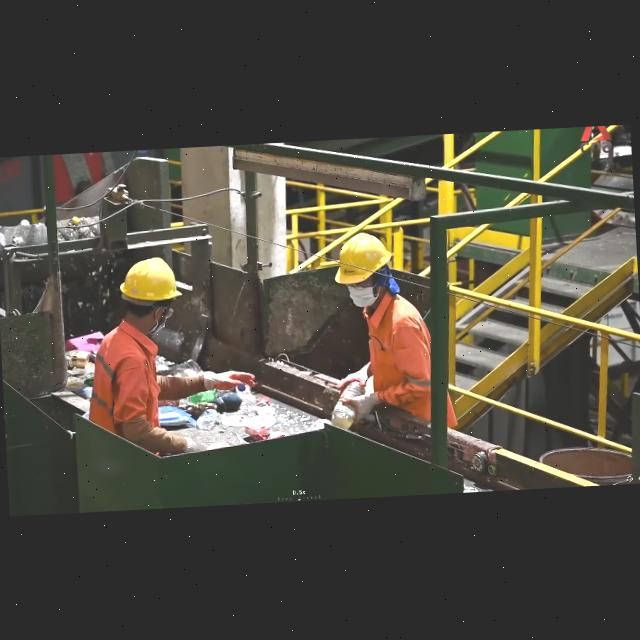trash: (330, 376, 369, 432), (186, 386, 220, 406), (235, 381, 259, 409), (195, 406, 221, 430)
